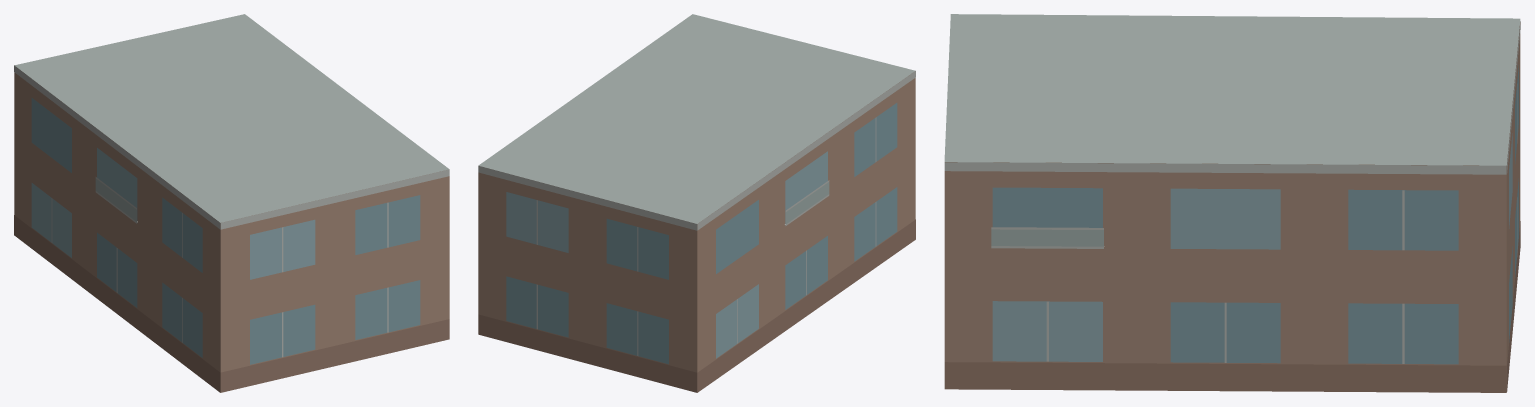
The model's file is survey-upis-32662672.glb.
3 views of the same model, side by side, from view 1: azimuth 30°, elevation 25°; view 2: azimuth 150°, elevation 25°; view 3: azimuth 270°, elevation 25° (orthographic). The views are drawn at different scales.
Visible parts, largest first — view 1: survey-upis-32662672.tmp; view 2: survey-upis-32662672.tmp; view 3: survey-upis-32662672.tmp.
Boxes of the visible parts, box(x1,y1,x2,y2) form: survey-upis-32662672.tmp: box(14, 14, 449, 392); survey-upis-32662672.tmp: box(478, 14, 915, 392); survey-upis-32662672.tmp: box(944, 14, 1520, 392).
Bounding box in the file's own units: 8.74 × 6.1 × 14.03.
